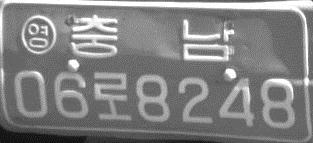0: (13, 69, 48, 119)
2: (177, 76, 212, 124)
4: (217, 77, 256, 127)
6: (54, 71, 89, 121)
8: (260, 76, 296, 129), (134, 74, 171, 122)
로: (93, 71, 131, 122)
영: (20, 14, 57, 55)
충남_D: (71, 14, 234, 62)
